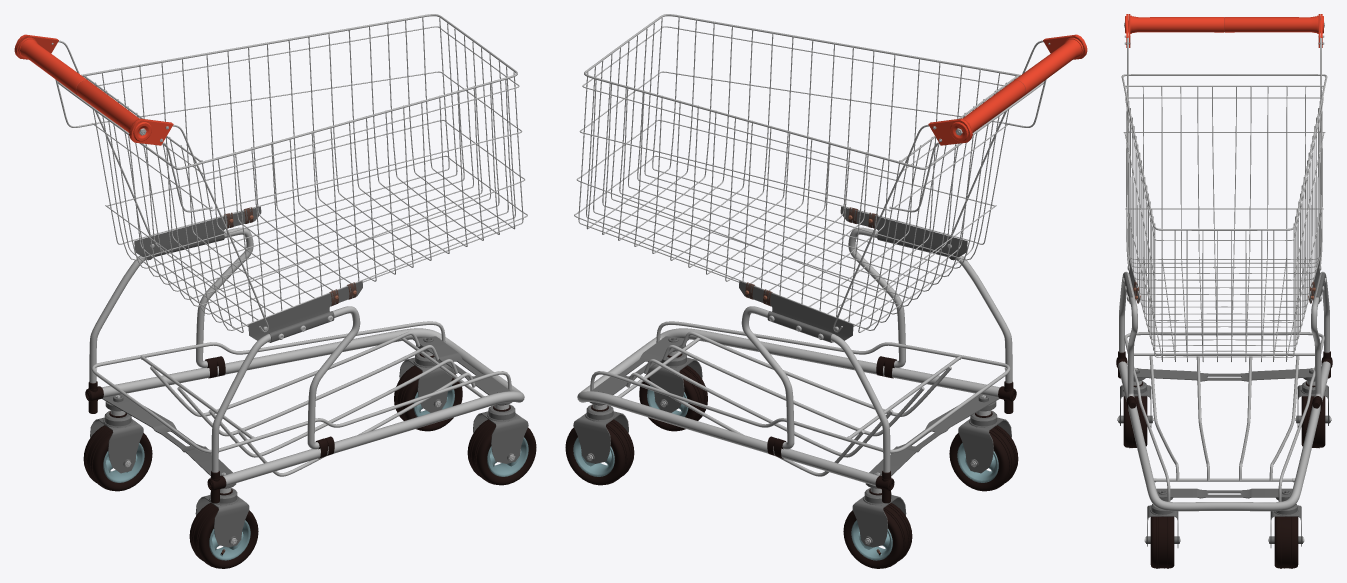
File: supermarket_trolley.glb
3 views of the same model, side by side, from view 1: azimuth 30°, elevation 25°; view 2: azimuth 150°, elevation 25°; view 3: azimuth 270°, elevation 25° (orthographic). The views are drawn at different scales.
Visible parts, largest first — view 1: BezierCurve.020, BezierCurve.004, BezierCurve, Plane.001, BezierCurve.003, BezierCurve.001, Cylinder.045, Cylinder.008, Plane.003, Cylinder.028, Plane.004, Plane.006 (+7 smaller); view 2: BezierCurve.020, BezierCurve.004, BezierCurve, Plane.001, BezierCurve.003, BezierCurve.001, Cylinder.045, Cylinder.008, Plane.003, Cylinder.028, Plane.004, Plane.006 (+7 smaller); view 3: BezierCurve.020, BezierCurve.004, Cylinder.008, Cylinder.028, BezierCurve, BezierCurve.003, BezierCurve.001, Cylinder.045, Plane.006, Plane.005, BezierCurve.033, BezierCurve.008 (+9 smaller).
Part boxes in pixels (x1,y1,x2,y2): BezierCurve.020: [57, 14, 527, 332]; BezierCurve.004: [102, 328, 524, 485]; BezierCurve: [89, 227, 360, 472]; Plane.001: [134, 206, 362, 342]; BezierCurve.003: [150, 331, 475, 476]; BezierCurve.001: [91, 321, 511, 453]; Cylinder.045: [83, 425, 258, 568]; Cylinder.008: [20, 39, 151, 141]; Plane.003: [90, 417, 249, 547]; Cylinder.028: [394, 365, 536, 485]; Plane.004: [399, 357, 528, 463]; Plane.006: [102, 394, 232, 475]; BezierCurve.020: [574, 14, 1044, 332]; BezierCurve.004: [577, 328, 999, 485]; BezierCurve: [741, 227, 1012, 472]; Plane.001: [739, 206, 967, 342]; BezierCurve.003: [626, 331, 951, 476]; BezierCurve.001: [590, 321, 1010, 453]; Cylinder.045: [843, 425, 1018, 568]; Cylinder.008: [950, 39, 1081, 141]; Plane.003: [852, 417, 1011, 547]; Cylinder.028: [565, 365, 707, 485]; Plane.004: [573, 357, 702, 463]; Plane.006: [869, 394, 999, 476]; BezierCurve.020: [1121, 74, 1327, 361]; BezierCurve.004: [1118, 361, 1330, 511]; Cylinder.008: [1125, 16, 1323, 33]; Cylinder.028: [1150, 516, 1298, 568]; BezierCurve: [1119, 271, 1329, 396]; BezierCurve.003: [1149, 356, 1299, 480]; BezierCurve.001: [1124, 332, 1324, 501]; Cylinder.045: [1123, 396, 1325, 447]; Plane.006: [1133, 368, 1315, 381]; Plane.005: [1156, 488, 1292, 498]; BezierCurve.033: [1126, 16, 1322, 271]; BezierCurve.008: [1124, 132, 1324, 280].
Bounding box in the file's own units: 269 × 286 × 142.
